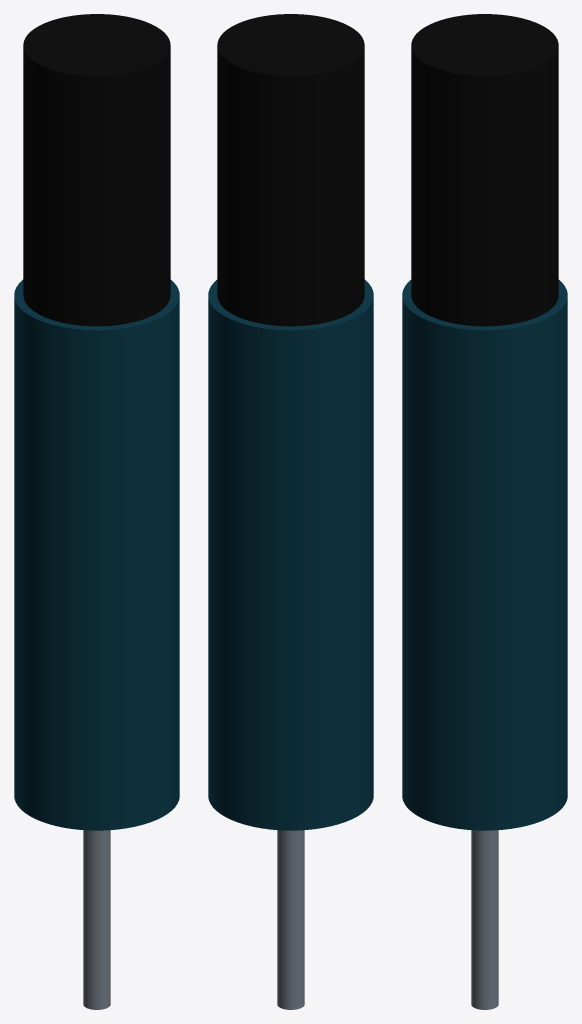
File: electric_screwdriver.glb
3 renders of one model, left to right at view 1: azimuth 30°, elevation 25°; view 2: azimuth 150°, elevation 25°; view 3: azimuth 270°, elevation 25°, orthographic.
Parts seen in each view (by area): view 1: screwdriver; view 2: screwdriver; view 3: screwdriver.
Part boxes in pixels (box(x1,y1,x2,y2)): screwdriver: box(14, 14, 179, 1009); screwdriver: box(208, 14, 373, 1009); screwdriver: box(402, 14, 567, 1009).
Size of the model in its own units: 0.036 by 0.23 by 0.0359.
